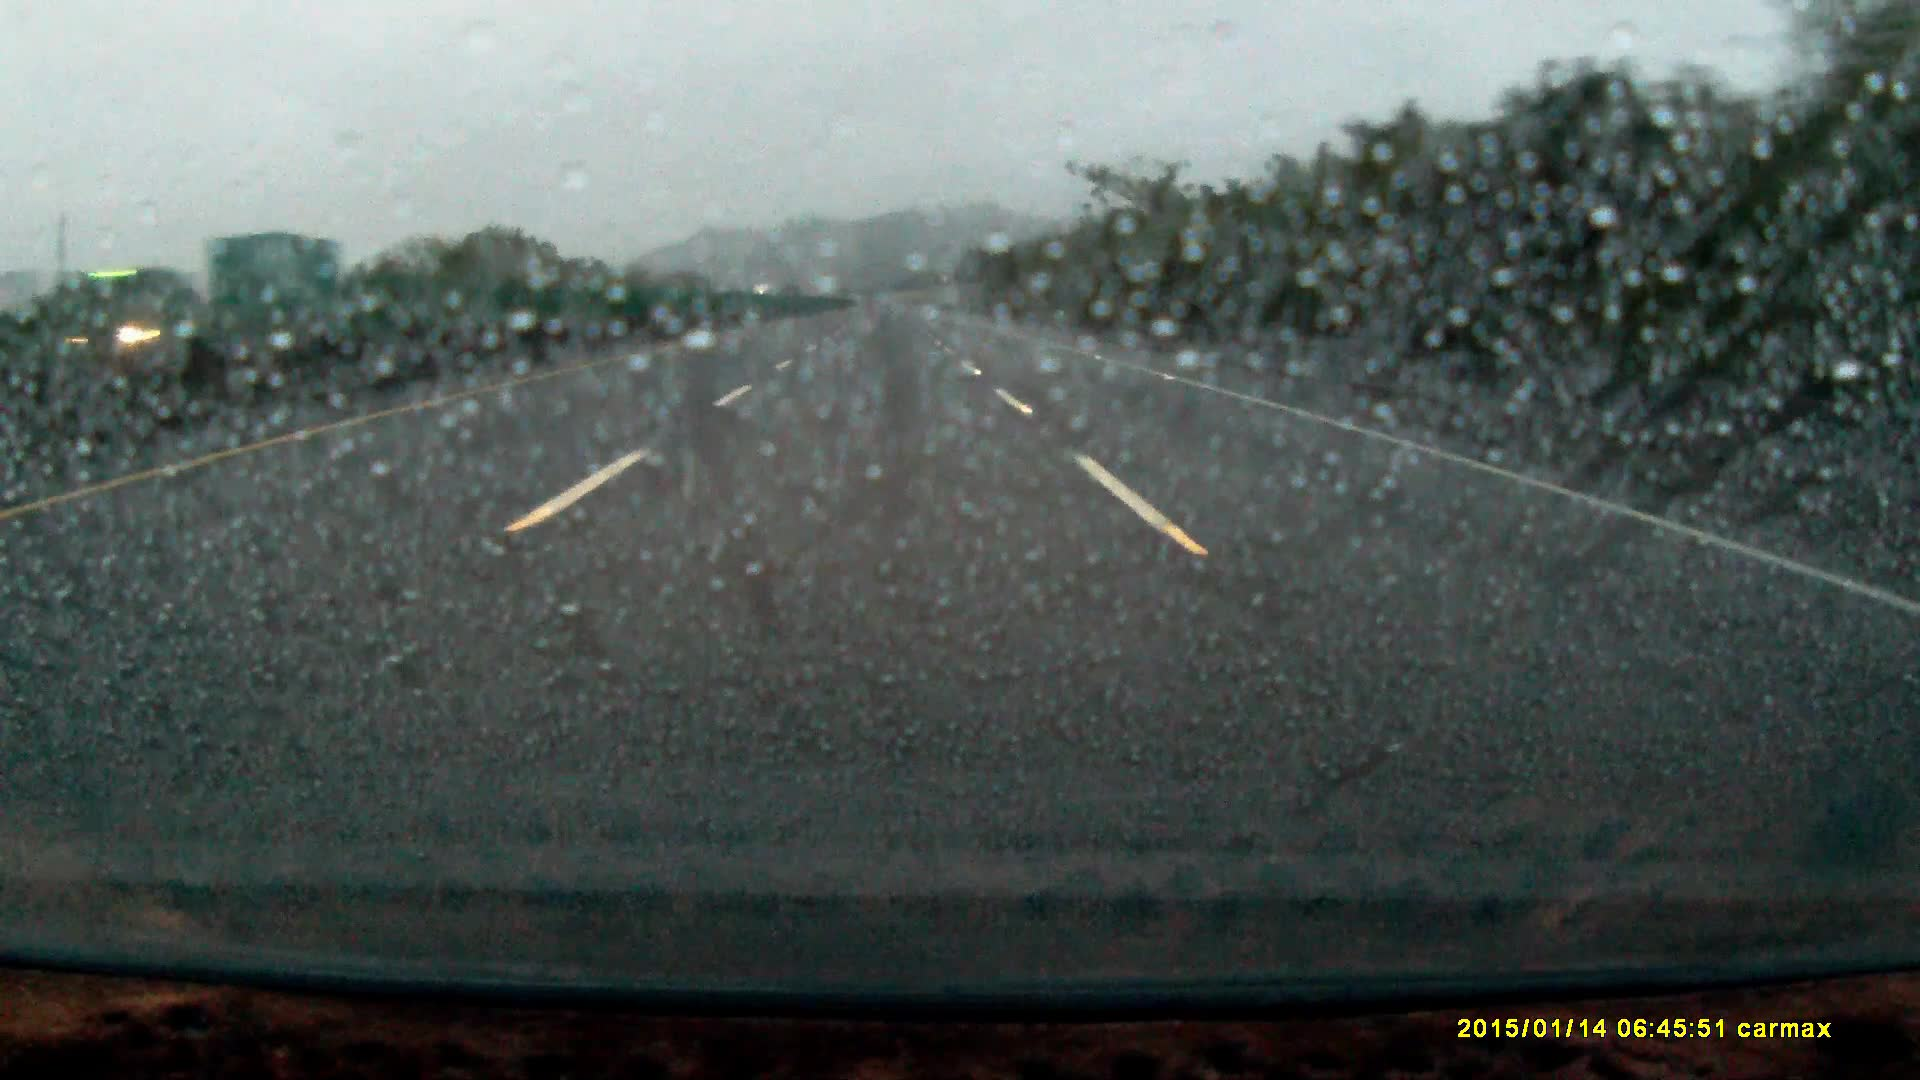vehicle: (40, 237, 342, 415)
